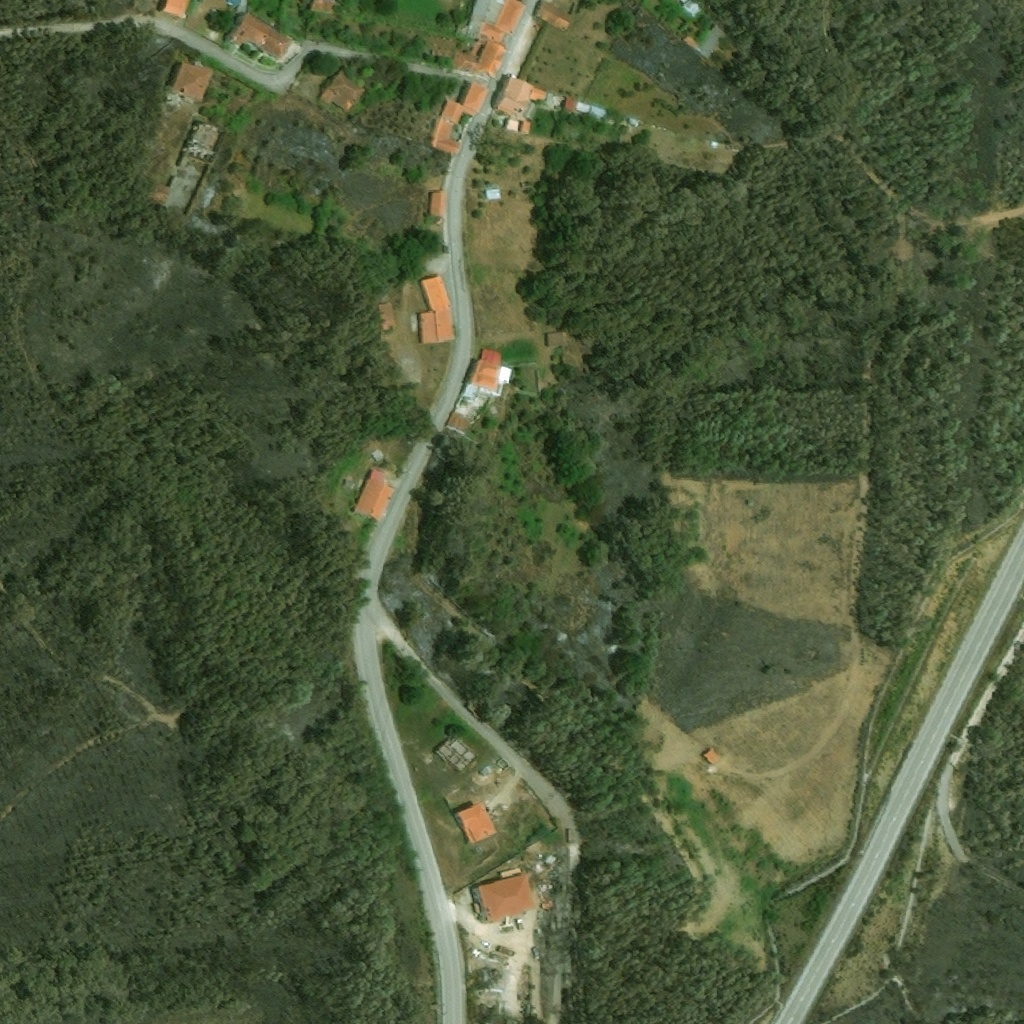0 no-damage: (469, 867, 536, 923), (224, 9, 295, 60), (432, 39, 507, 82), (455, 0, 526, 44), (417, 275, 456, 345), (165, 60, 214, 108), (465, 349, 512, 398), (492, 78, 549, 118), (318, 70, 366, 114), (441, 82, 489, 125), (453, 802, 497, 844), (681, 24, 729, 62), (354, 480, 394, 522), (535, 1, 574, 35), (431, 118, 461, 156), (444, 411, 471, 436), (378, 303, 396, 331), (430, 191, 446, 216), (505, 119, 531, 134), (683, 0, 701, 18), (702, 747, 720, 764), (484, 185, 502, 200), (547, 332, 563, 347), (591, 107, 607, 118), (371, 449, 384, 461), (579, 102, 590, 113), (343, 479, 354, 489), (630, 118, 637, 125)
3 destroyed: (182, 123, 230, 166)
4 un-classified: (434, 735, 478, 775), (161, 0, 187, 18), (309, 0, 336, 14), (225, 0, 252, 14), (679, 0, 689, 4)
